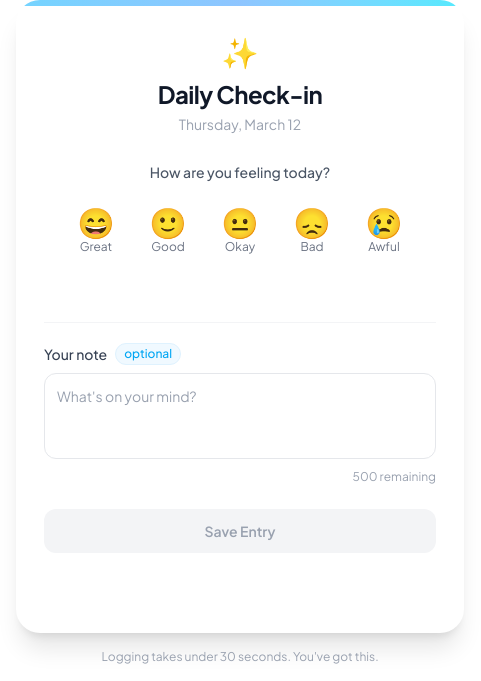
MoodPicker (log entry form) › mood selection › shows the feeling indicator after a mood is selected
Click the button with aria-label "Select mood: Good" at coordinates (168, 230), box [136,198,200,262]
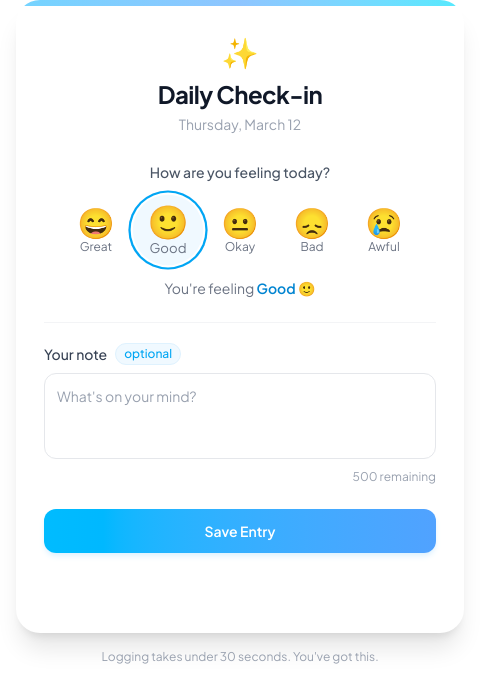
expect the text "You're feeling Good 🙂" is shown: met, box [164,278,316,298]
